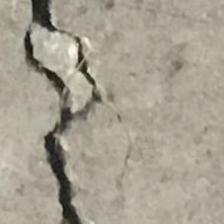Crack: (13, 0, 134, 224)
